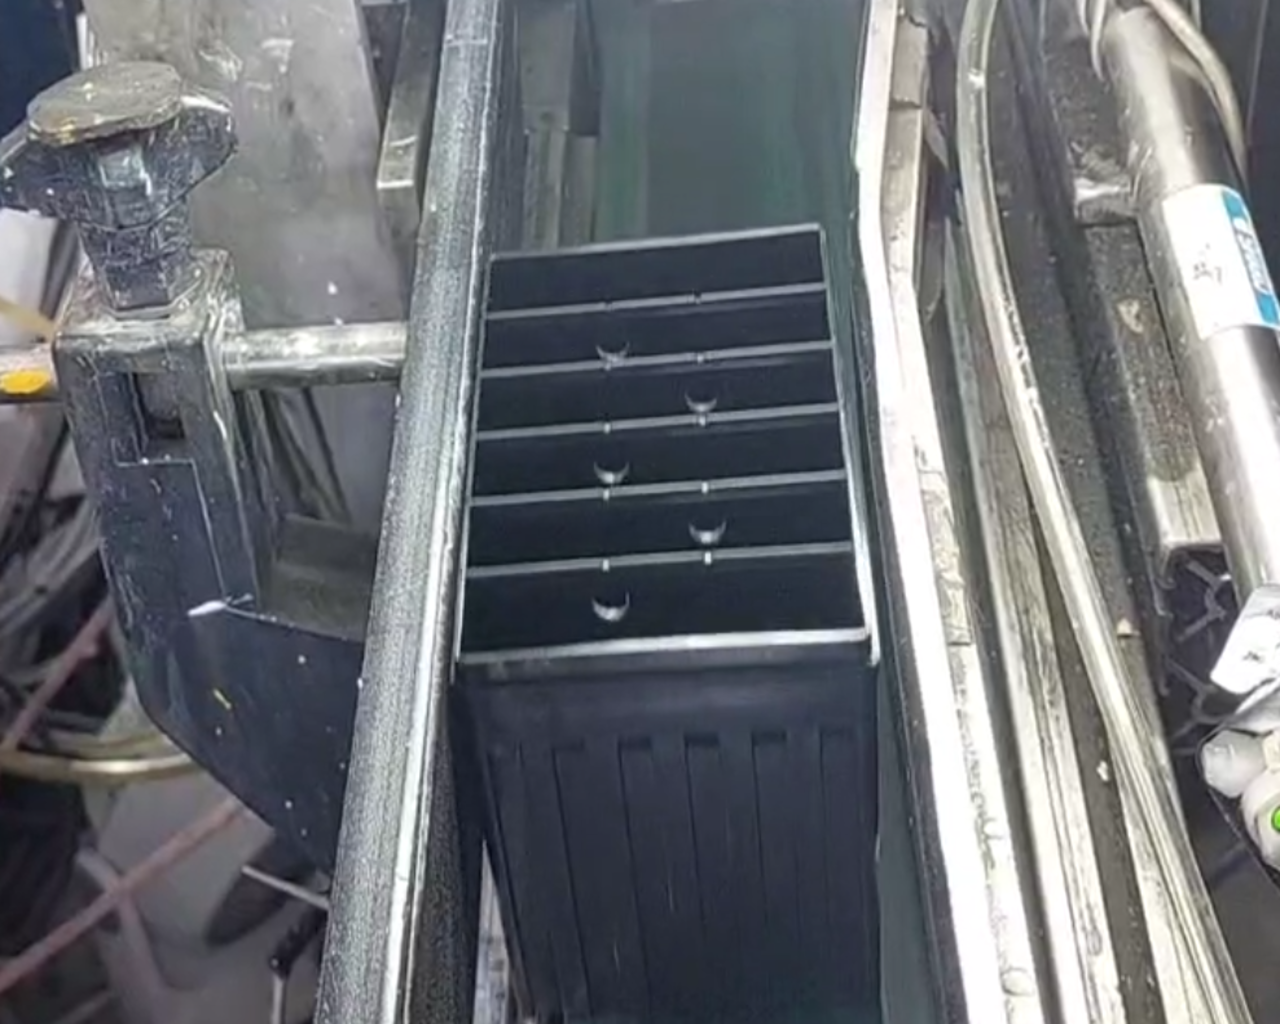box: (438, 211, 895, 694)
round: (583, 439, 643, 491), (677, 497, 734, 550), (582, 574, 639, 625), (675, 372, 729, 419), (585, 321, 638, 367)
